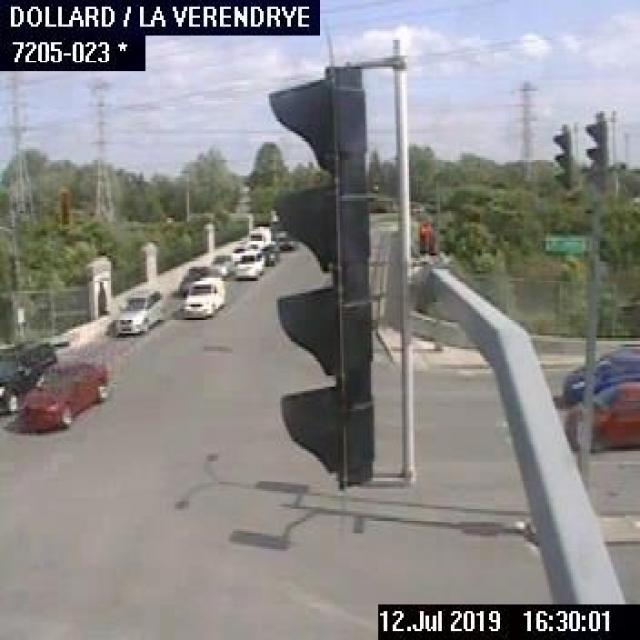vehicle: (14, 358, 105, 429), (563, 384, 638, 449), (558, 342, 638, 401), (0, 338, 58, 413), (111, 282, 165, 331), (180, 274, 227, 316), (176, 264, 208, 295), (233, 250, 263, 277), (209, 251, 234, 275), (246, 223, 268, 246), (258, 242, 276, 265)
